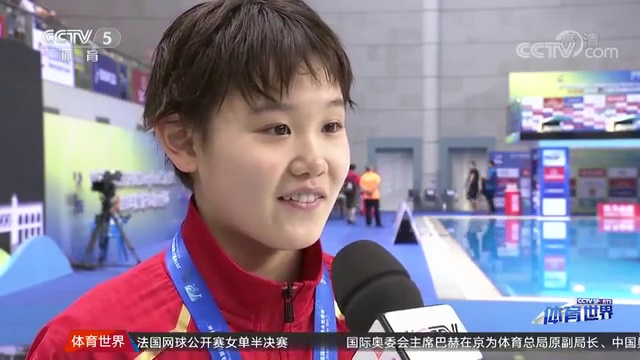face: (209, 65, 348, 247)
